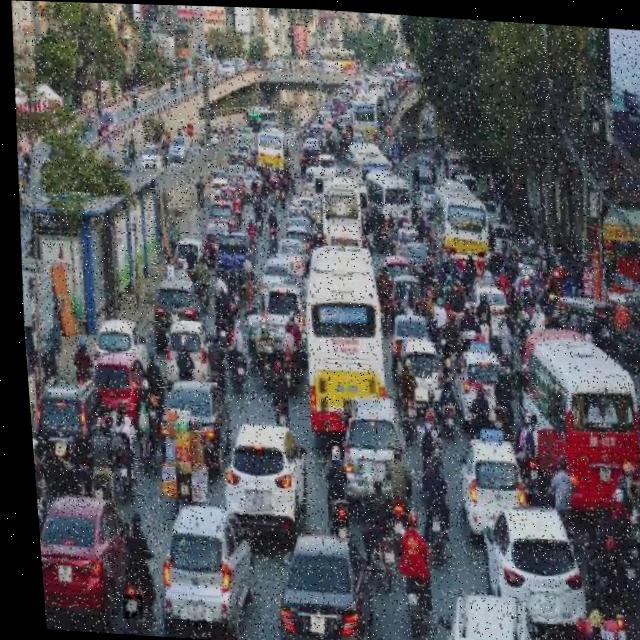LicensePlate: (524, 585, 551, 621), (236, 487, 265, 515), (353, 454, 378, 479), (296, 615, 321, 639), (175, 599, 197, 626), (587, 456, 607, 483), (112, 594, 133, 618), (326, 518, 345, 544), (409, 370, 426, 399), (390, 584, 408, 608), (336, 397, 352, 416), (47, 438, 61, 458), (486, 308, 496, 325), (164, 309, 176, 323), (272, 323, 283, 336), (521, 264, 532, 276), (475, 385, 486, 395), (411, 262, 421, 272), (497, 237, 504, 246)
